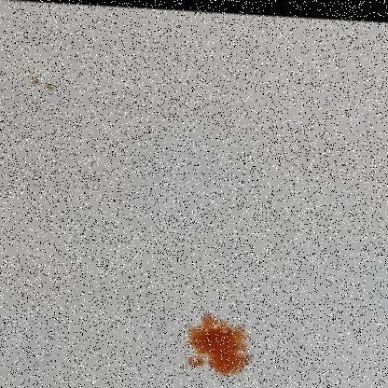kimchi: (179, 307, 254, 377)
